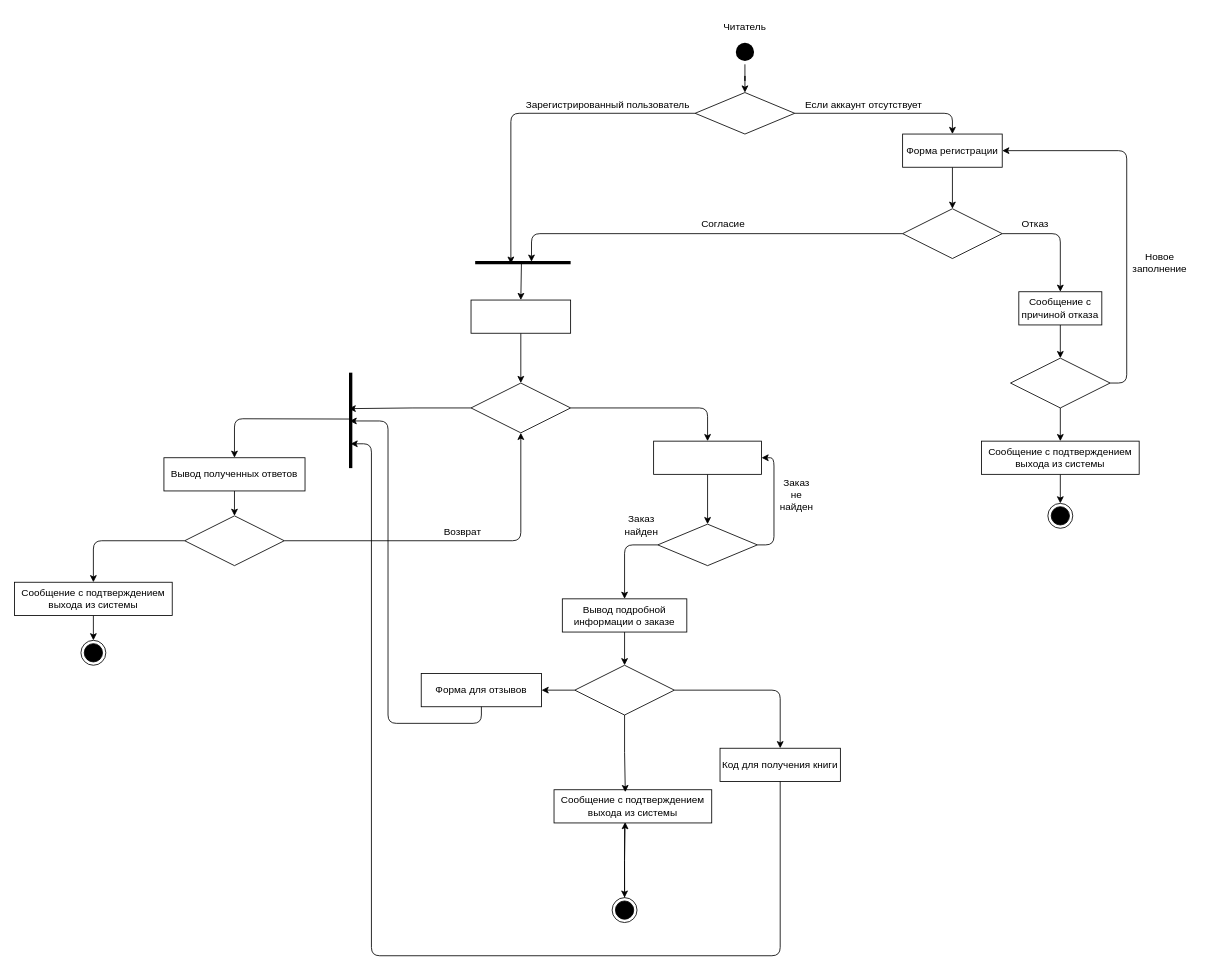
This 1208x977 diagram has some shape labels left out. The shapes that lost their labels are listed below. From the top down, each one's centre as x and y in pixels, then its label:
[952,233]: Ответ
[520,316]: Форма авторизации
[707,457]: Вывод списка заказов
